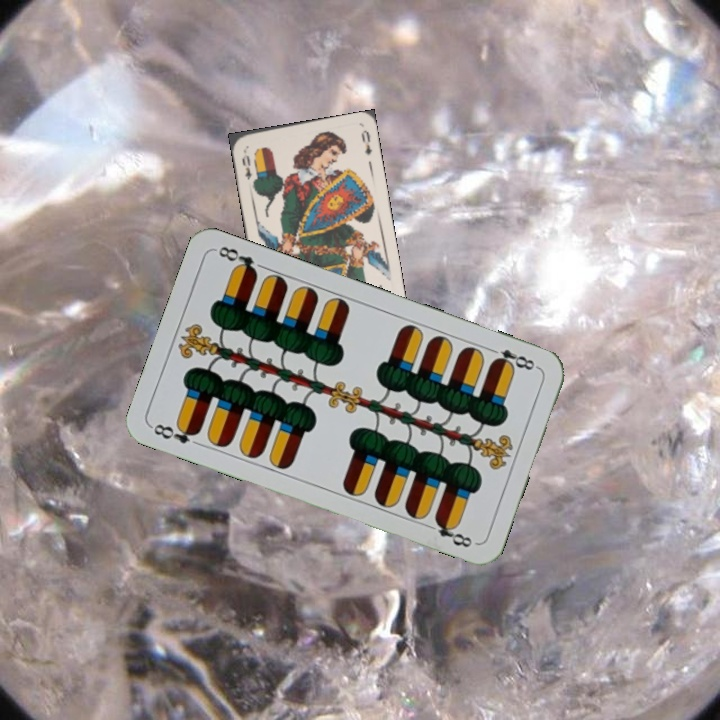E8: (485, 343, 541, 373), (148, 419, 202, 447)
EO: (238, 146, 255, 182)
